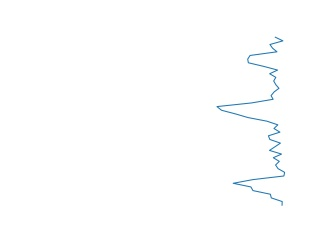underwaterNaturalLevee: (214, 35, 291, 206)
